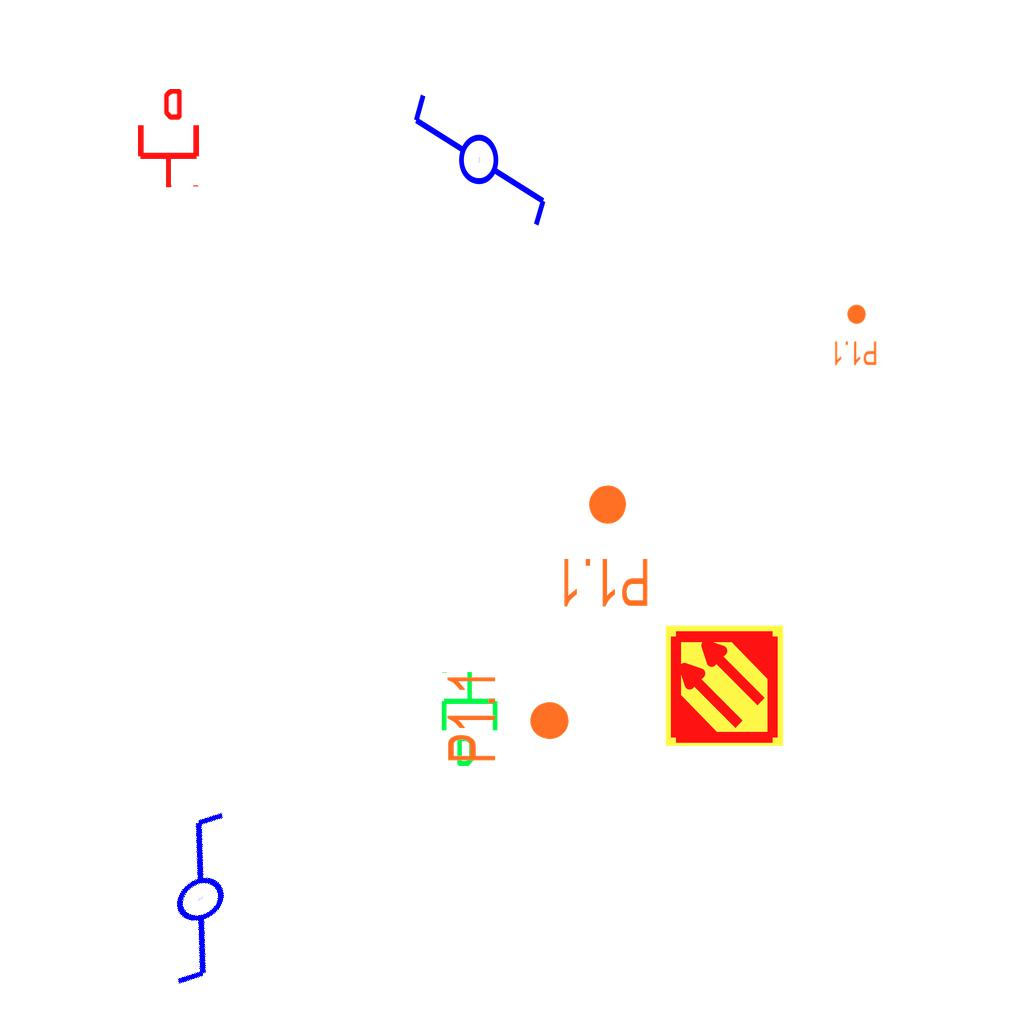ASR_Ansaugrauchmelder: (662, 623, 787, 748)
Datenanschluss_einfach: (134, 89, 203, 189), (437, 669, 506, 769)
Downlight_LED_Einbauleuchten_Flur: (558, 482, 651, 610), (444, 671, 572, 764), (832, 303, 878, 367)
Wechselschalter: (87, 798, 298, 1006), (409, 73, 553, 230)
